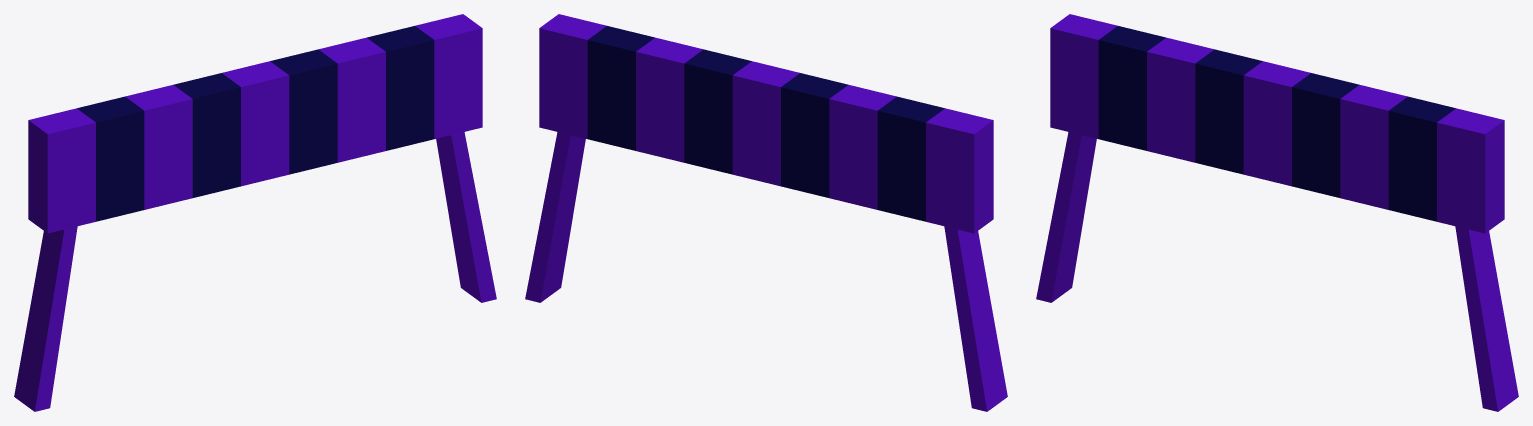
File: PunkBarrierHigh.obj
The picture shows the model from 3 angles, left to right: view 1: azimuth 30°, elevation 25°; view 2: azimuth 150°, elevation 25°; view 3: azimuth 330°, elevation 25°; orthographic projection.
Parts seen in each view (by area): view 1: Cube.001; view 2: Cube.001; view 3: Cube.001.
Boxes of the visible parts, <box> form: Cube.001: <box>14,14,496,411</box>; Cube.001: <box>525,14,1007,411</box>; Cube.001: <box>1036,14,1518,411</box>.
Size of the model in its own units: 8.5 by 4.81 by 0.6588.
